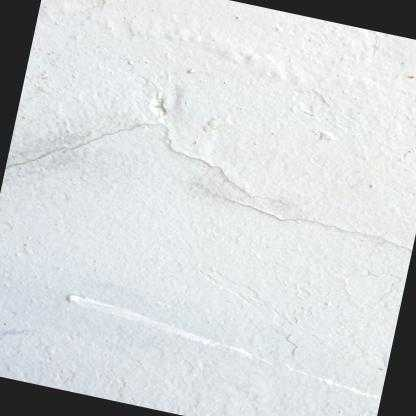crack: (3, 116, 287, 205), (214, 195, 413, 253)
